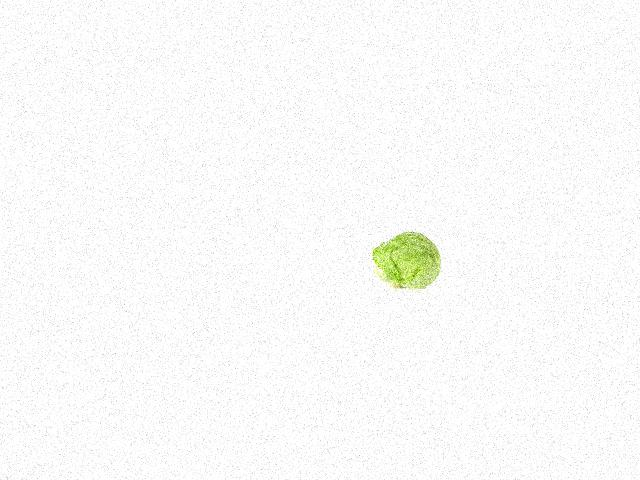lettuce: (364, 225, 447, 289)
